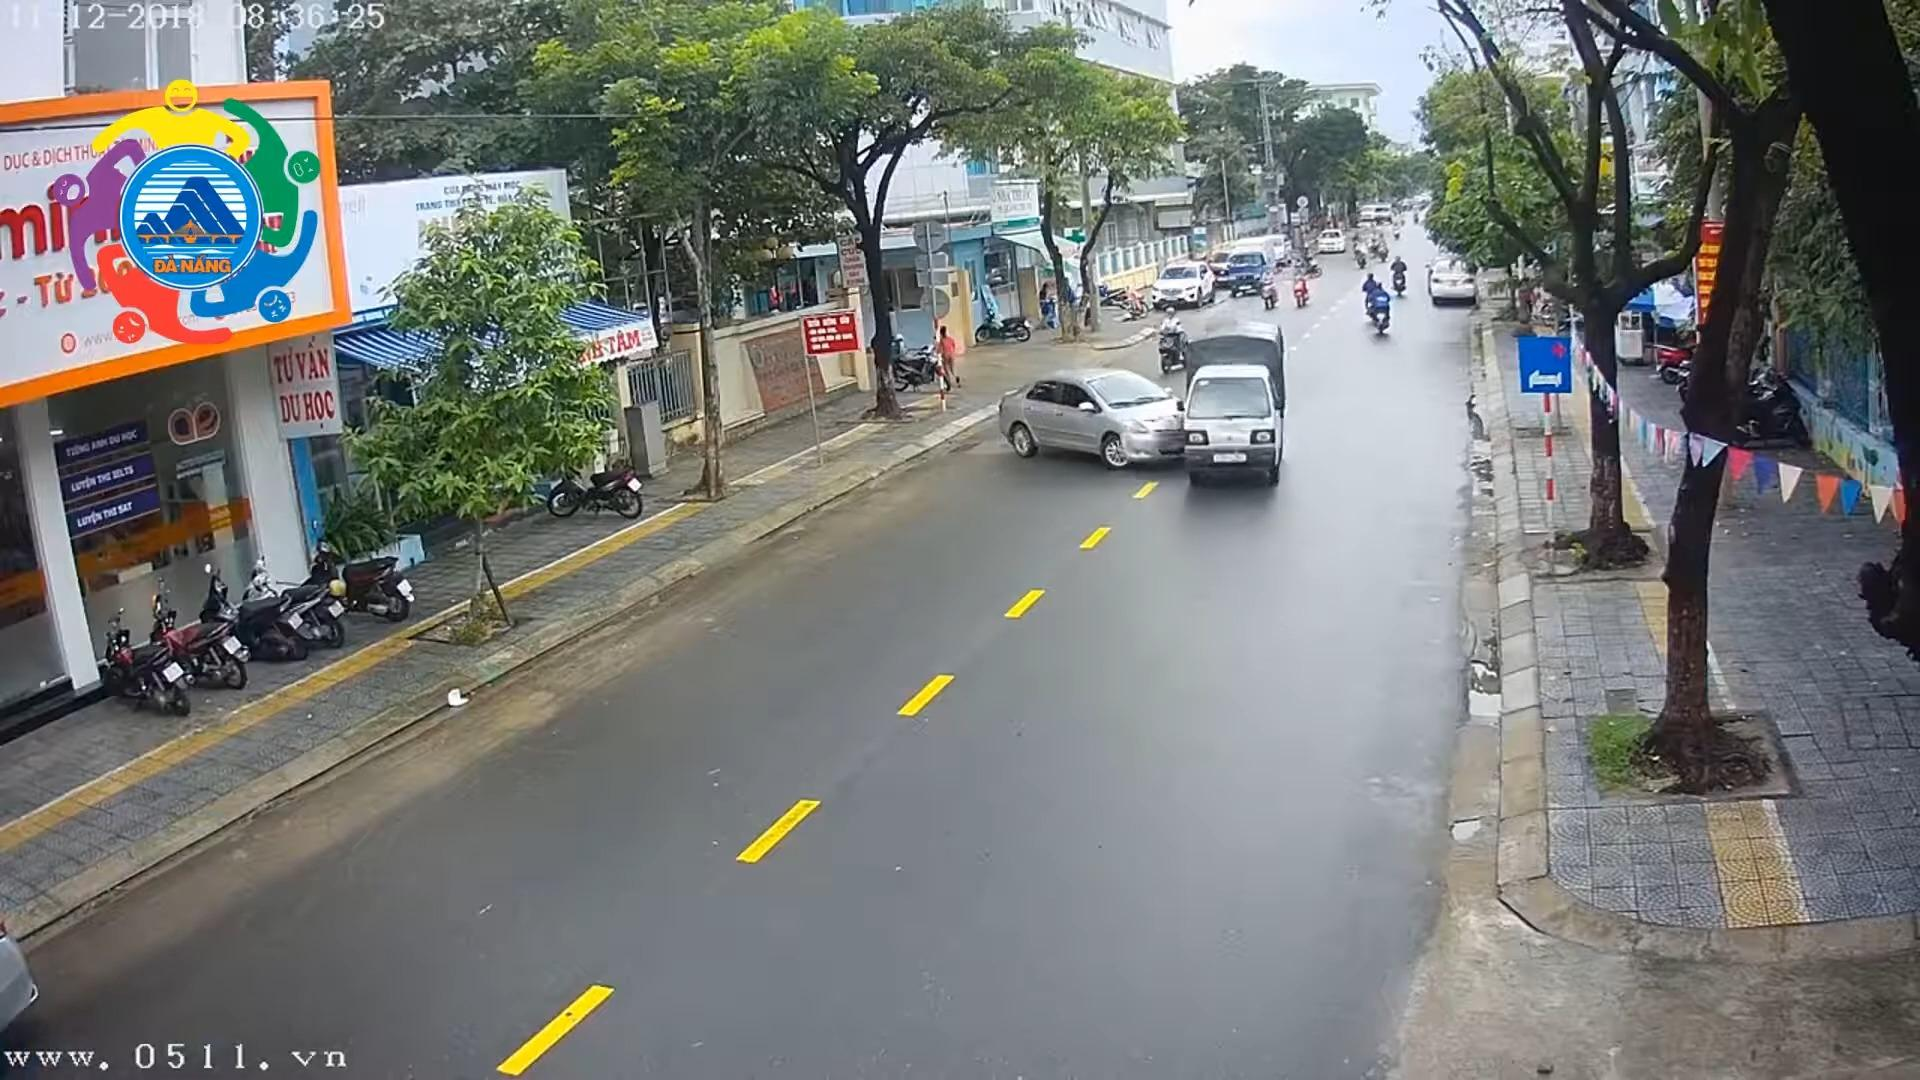accident: (1006, 315, 1288, 495)
car: (998, 357, 1179, 484), (1150, 260, 1212, 309), (1423, 260, 1480, 306), (1315, 225, 1352, 253)
motorcycle: (202, 560, 311, 662), (149, 584, 249, 692), (306, 526, 414, 622), (252, 549, 353, 650), (99, 613, 194, 717), (549, 438, 645, 521), (869, 339, 959, 392), (1156, 299, 1185, 377), (1364, 285, 1393, 338), (1389, 255, 1412, 297), (1259, 269, 1282, 309), (1292, 270, 1311, 310)
truck: (1175, 314, 1286, 497), (1228, 241, 1273, 302)
